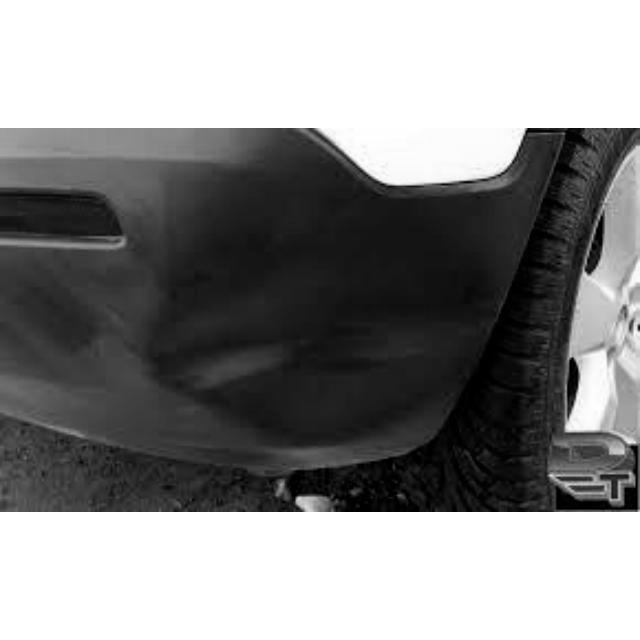rear-bumper-dent: (157, 255, 479, 442)
